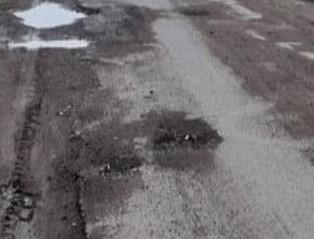crack: (0, 96, 55, 239), (58, 167, 93, 239), (146, 123, 215, 149)
pothole: (0, 0, 101, 30), (10, 35, 92, 56)
